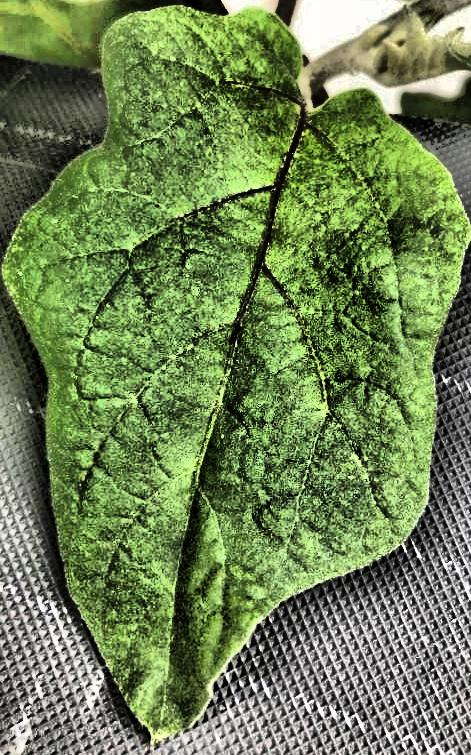HEALTHY: (1, 0, 471, 755)
